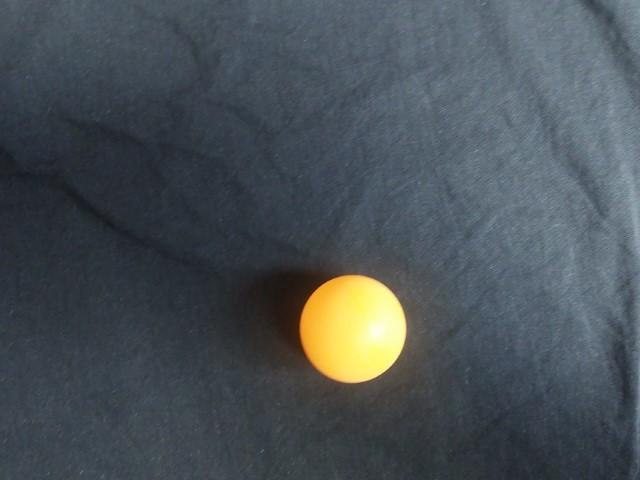oball: (224, 92, 348, 213)
